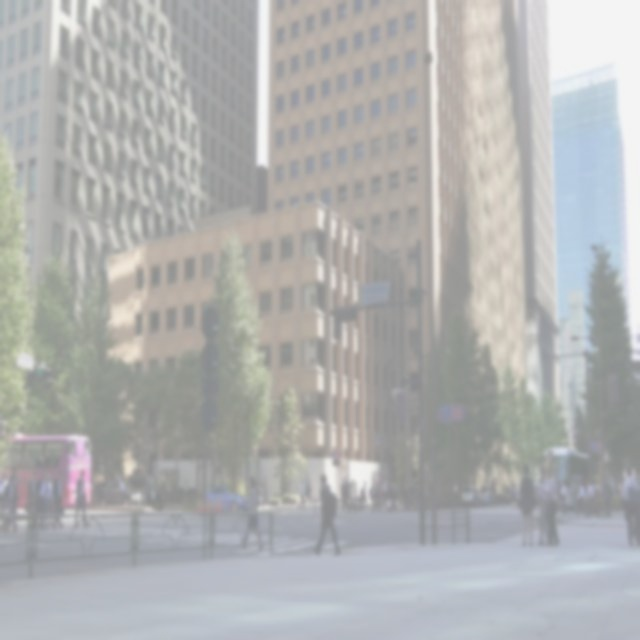pessoa: (544, 466, 640, 638), (340, 476, 420, 515), (311, 470, 342, 558), (558, 476, 612, 519), (238, 474, 264, 554), (620, 464, 640, 548), (518, 461, 536, 548), (36, 464, 54, 531), (3, 472, 19, 535), (73, 468, 89, 531), (536, 466, 548, 546), (51, 468, 64, 532), (10, 464, 19, 514), (444, 477, 461, 500), (296, 478, 305, 512), (302, 476, 312, 506), (0, 470, 10, 498), (180, 476, 190, 504), (260, 476, 269, 504), (28, 468, 38, 493), (491, 480, 498, 503), (510, 477, 519, 492), (159, 477, 166, 495)
